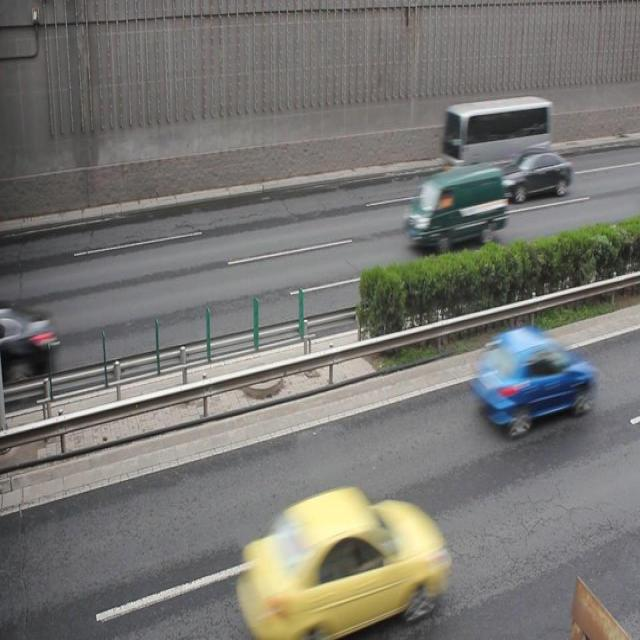car: (233, 490, 447, 640), (473, 326, 588, 436), (504, 152, 570, 198)
truck: (406, 168, 505, 252)
van: (442, 95, 554, 175)
